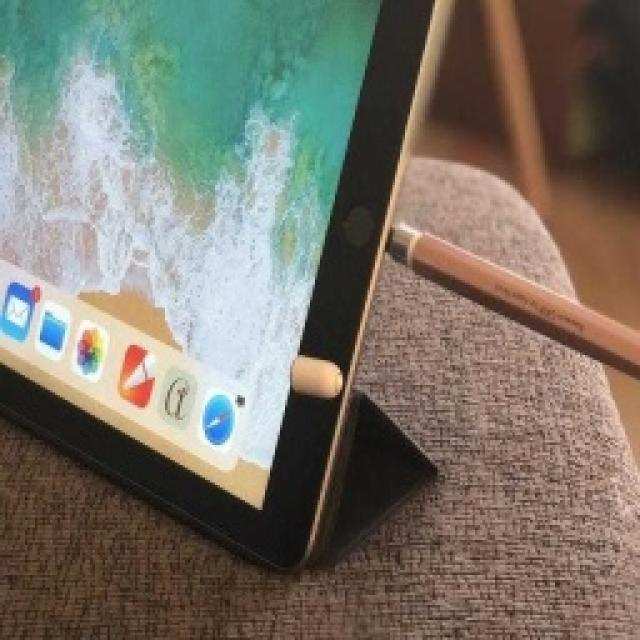pencil: (0, 0, 462, 572)
